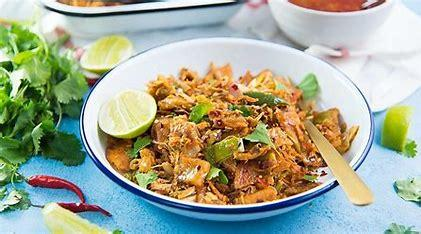Kottu: (111, 54, 337, 212)
